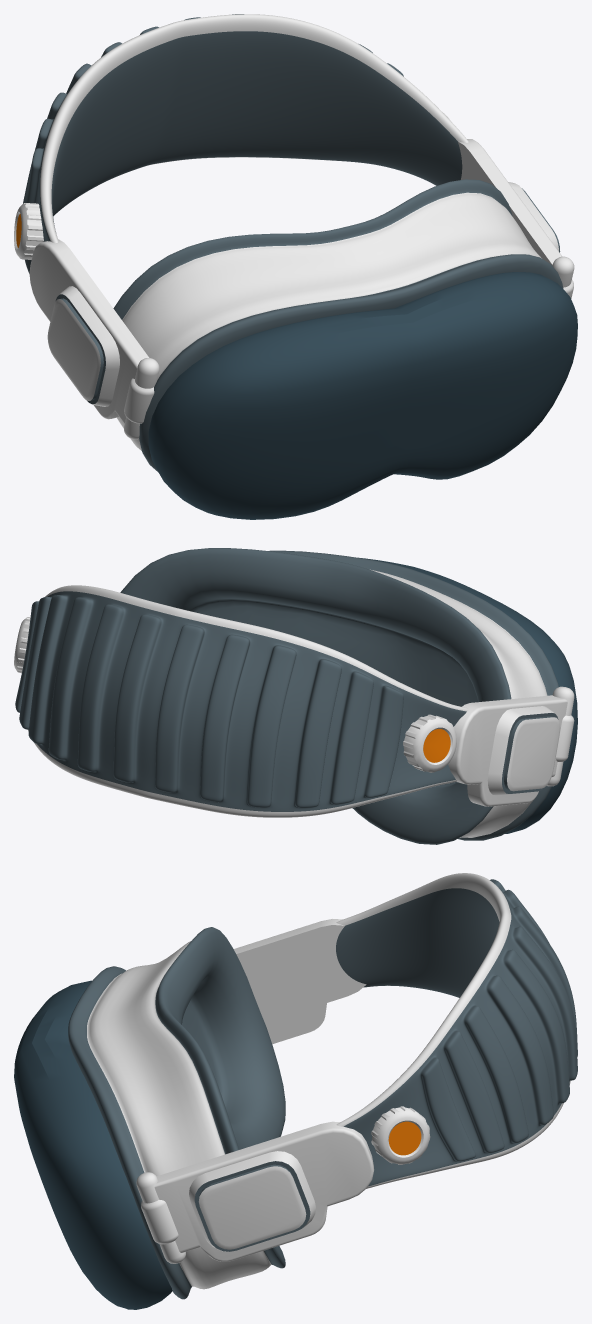
3 renders of one model, top to bottom at view 1: azimuth 30°, elevation 25°; view 2: azimuth 150°, elevation 25°; view 3: azimuth 270°, elevation 25°, orthographic.
Parts seen in each view (by area): view 1: Plane.002, Circle.004, Plane.003, Plane.004, Plane.005, Cylinder.005, Cylinder.006; view 2: Circle.004, Plane.003, Plane.005, Plane.004, Plane.002, Cylinder.006, Cylinder.005; view 3: Circle.004, Plane.003, Plane.002, Plane.004, Plane.005, Cylinder.006, Cylinder.005.
Part boxes in pixels (bbox=[...]): Plane.002: bbox=[148, 272, 577, 519]; Circle.004: bbox=[23, 14, 468, 274]; Plane.003: bbox=[113, 179, 563, 472]; Plane.004: bbox=[29, 139, 562, 423]; Plane.005: bbox=[47, 182, 560, 406]; Cylinder.005: bbox=[124, 256, 574, 439]; Cylinder.006: bbox=[14, 112, 449, 259]; Circle.004: bbox=[15, 585, 468, 817]; Plane.003: bbox=[120, 548, 558, 844]; Plane.005: bbox=[487, 706, 560, 795]; Plane.004: bbox=[448, 695, 567, 806]; Plane.002: bbox=[358, 557, 577, 833]; Cylinder.006: bbox=[14, 617, 456, 772]; Cylinder.005: bbox=[547, 686, 574, 786]; Circle.004: bbox=[336, 873, 577, 1188]; Plane.003: bbox=[68, 927, 285, 1299]; Plane.002: bbox=[14, 980, 172, 1309]; Plane.004: bbox=[154, 919, 374, 1261]; Plane.005: bbox=[189, 1151, 315, 1251]; Cylinder.006: bbox=[371, 1106, 430, 1164]; Cylinder.005: bbox=[136, 1172, 185, 1263].
Bounding box in the file's own units: 2.27 × 1.56 × 2.38.
